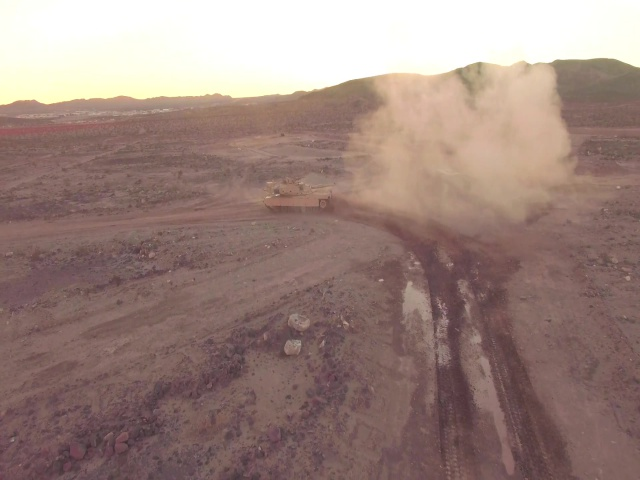vehicle: (263, 178, 333, 212)
